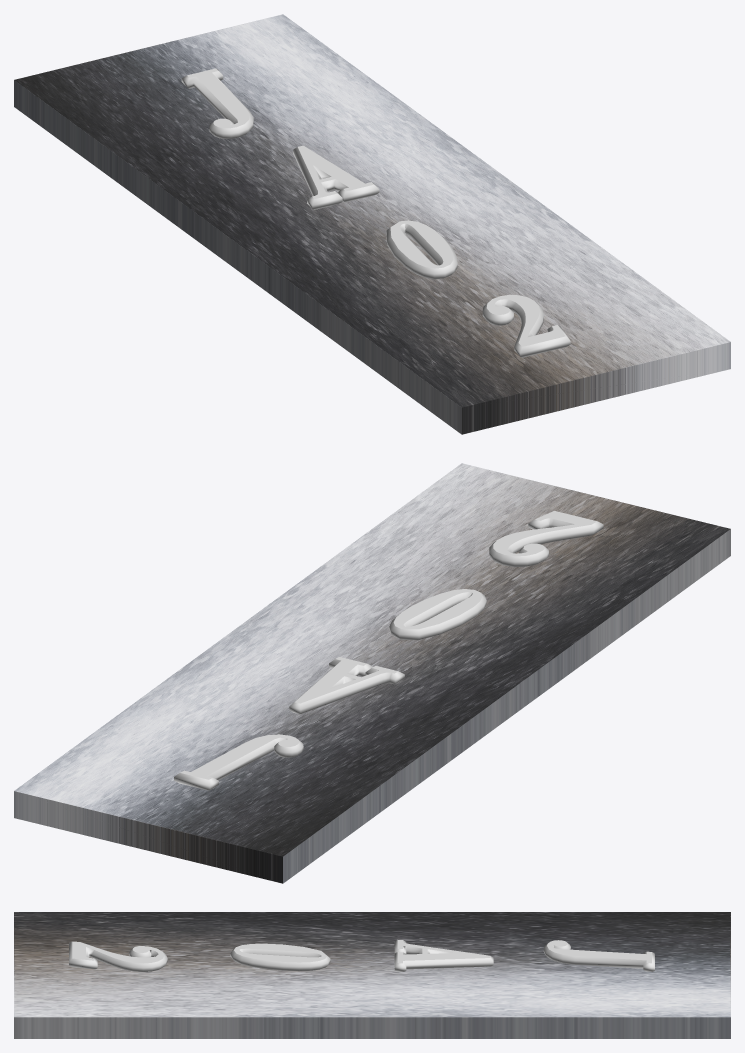
The model's file is Placa2.fbx.
3 views of the same model, one above another, from view 1: azimuth 30°, elevation 25°; view 2: azimuth 150°, elevation 25°; view 3: azimuth 270°, elevation 25° (orthographic). The views are drawn at different scales.
Parts seen in each view (by area): view 1: Placacasa1.001; view 2: Placacasa1.001; view 3: Placacasa1.001.
Part boxes in pixels (x1=…): Placacasa1.001: x1=14, y1=14, x2=730, y2=434; Placacasa1.001: x1=14, y1=463, x2=730, y2=883; Placacasa1.001: x1=14, y1=912, x2=730, y2=1038.
Size of the model in its own units: 153 by 20.35 by 440.
2 materials, 1 textured.
